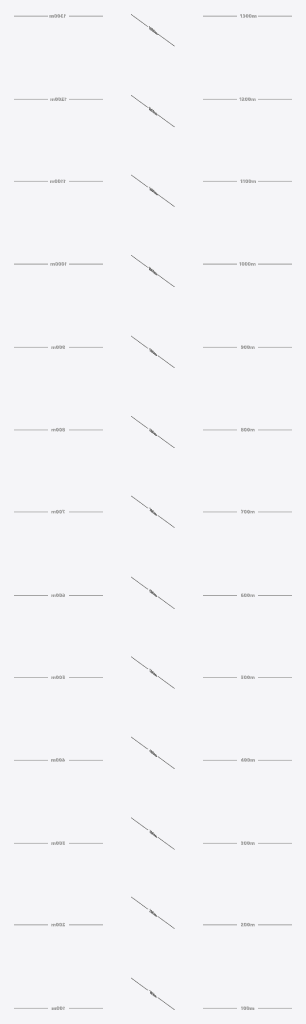
The model's file is HeightMeter.obj.
The picture shows the model from 3 angles, left to right: view 1: azimuth 90°, elevation 25°; view 2: azimuth 210°, elevation 25°; view 3: azimuth 270°, elevation 25°; orthographic projection. The views are drawn at different scales.
Parts seen in each view (by area): view 1: 立方体.012; view 2: 立方体.012; view 3: 立方体.012.
Part boxes in pixels (left/top/right/bottom): 立方体.012: left=14, top=14, right=102, bottom=1009; 立方体.012: left=131, top=14, right=174, bottom=1009; 立方体.012: left=203, top=14, right=291, bottom=1009.
Size of the model in its own units: 0.8947 by 1204 by 97.28.
Materials: 1 (1 with a texture image).
